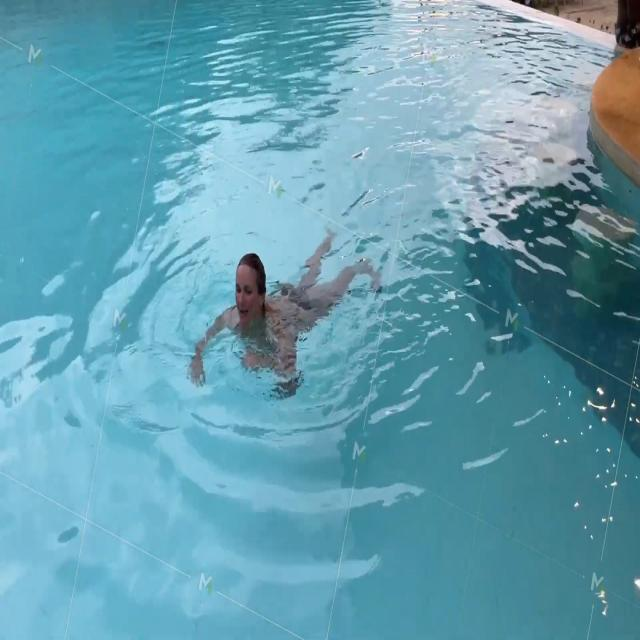Swimming: (182, 240, 376, 390)
